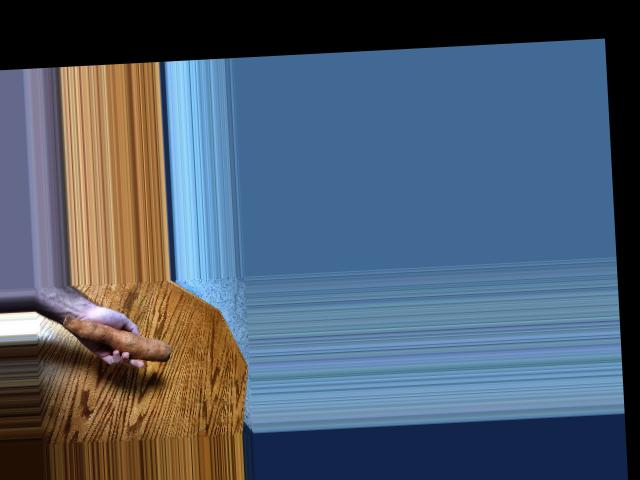sweet_potato: (61, 308, 173, 368)
